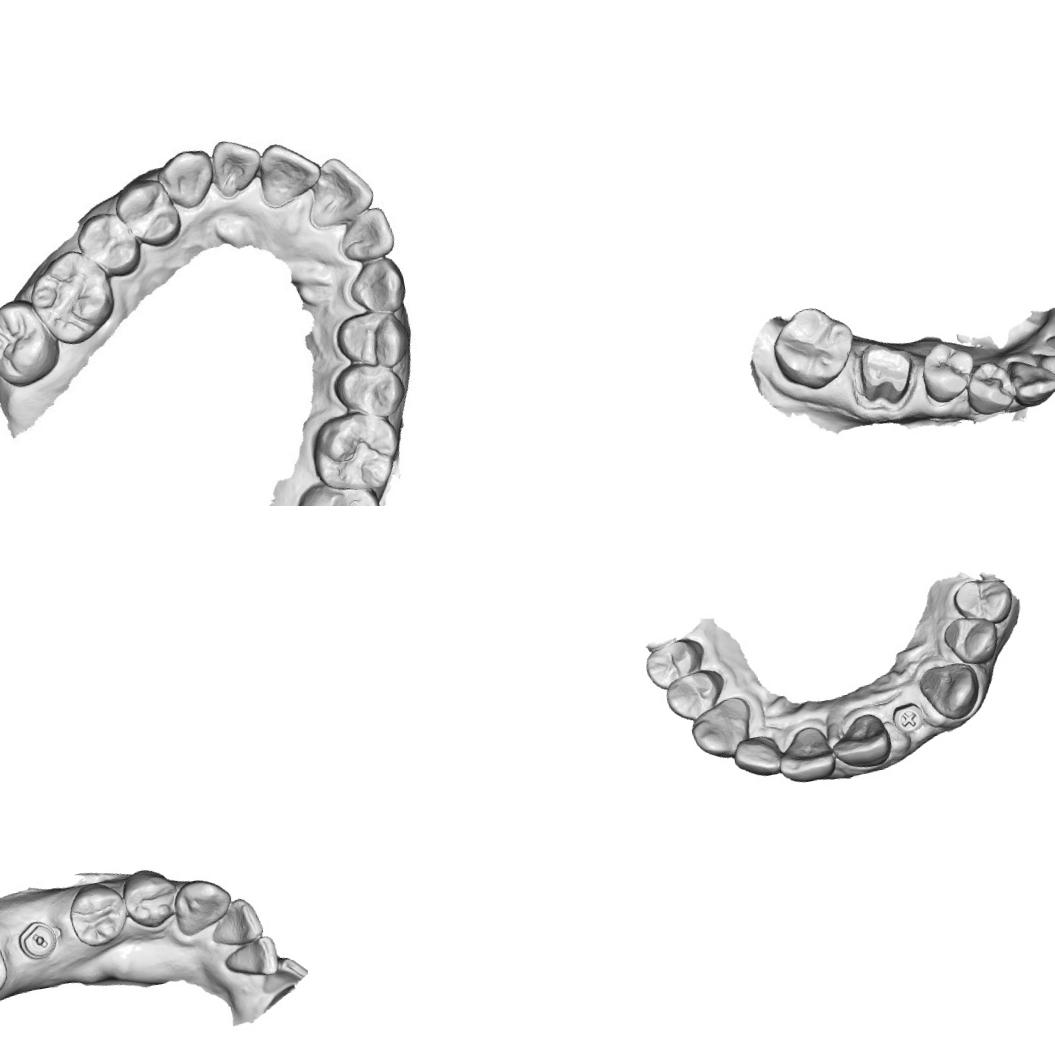canine: (685, 693, 758, 764), (152, 141, 220, 213), (168, 872, 238, 939), (914, 658, 984, 725), (343, 255, 410, 314), (1005, 350, 1055, 410)
crown: (847, 333, 924, 414)
implant_minus: (13, 914, 66, 966)
implant_plus: (890, 700, 926, 736)
incisor: (301, 151, 374, 232), (254, 136, 325, 213), (826, 709, 894, 773), (772, 722, 838, 787), (205, 892, 267, 948), (341, 204, 398, 260), (218, 932, 280, 983), (210, 136, 260, 198), (728, 731, 784, 782), (257, 952, 311, 998), (1037, 346, 1055, 396)
molar: (27, 246, 124, 350), (764, 296, 861, 396), (310, 404, 402, 494), (0, 295, 64, 392), (286, 471, 388, 506)
premolar: (109, 170, 186, 256), (328, 300, 415, 374), (68, 204, 146, 284), (326, 351, 409, 426), (63, 876, 132, 950), (914, 335, 981, 409), (117, 863, 185, 934), (660, 665, 730, 725), (640, 634, 708, 694), (949, 573, 1016, 630), (939, 610, 1002, 670), (960, 356, 1017, 418)
